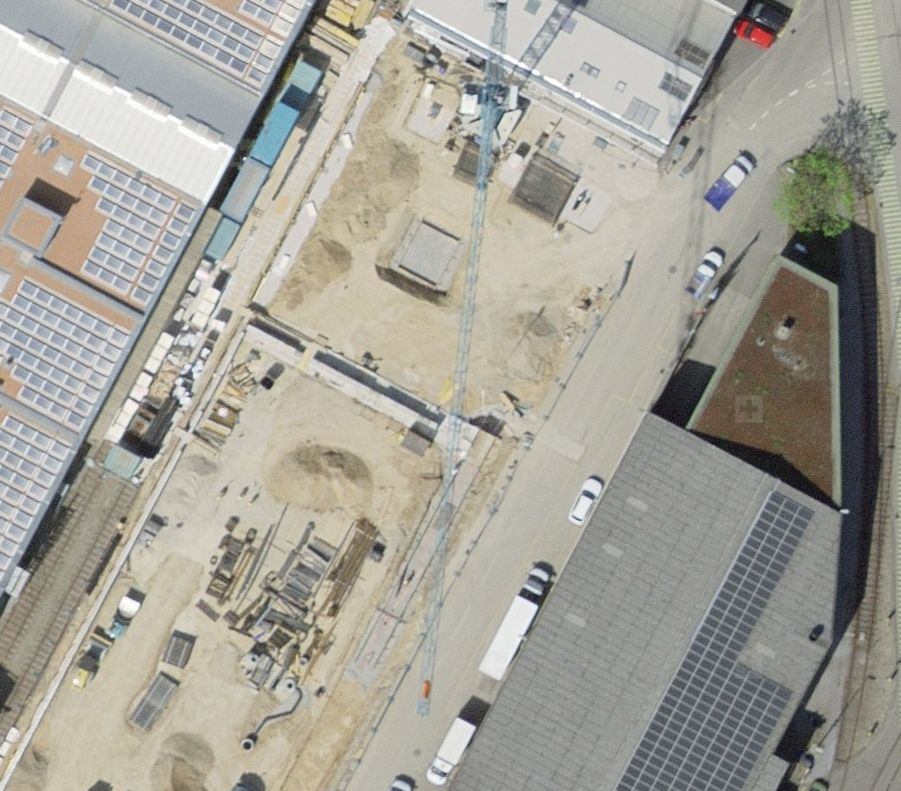solar: (1, 104, 200, 594), (607, 491, 822, 791), (112, 1, 315, 85)
